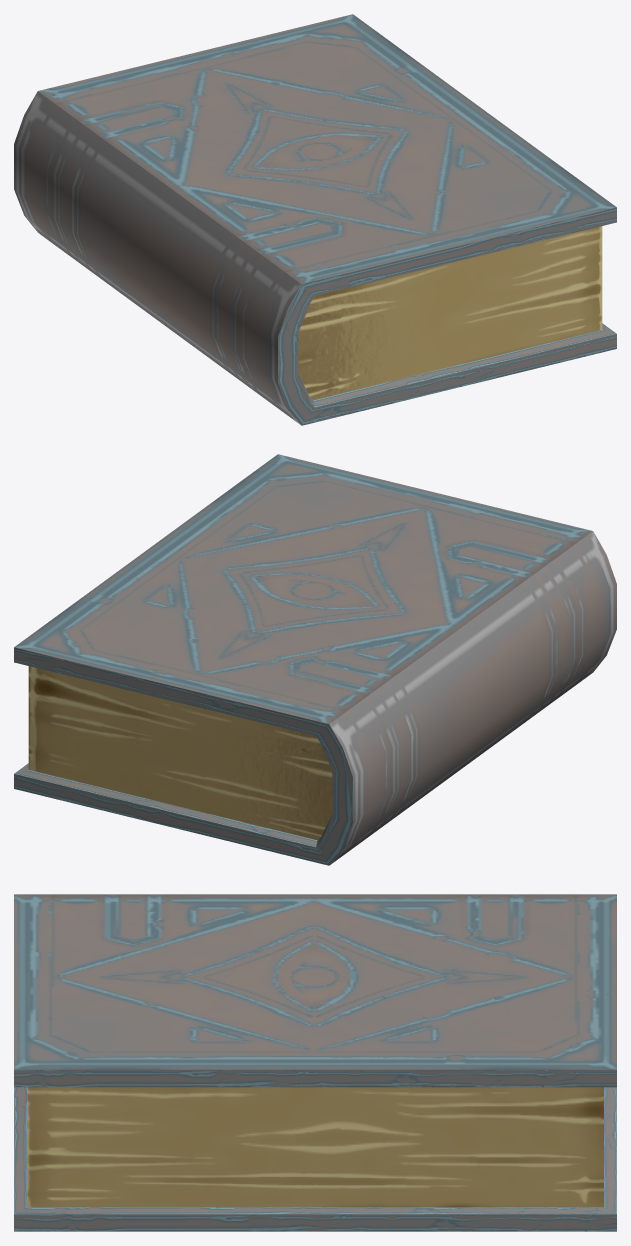
The model's file is Book_6.fbx.
3 renders of one model, top to bottom at view 1: azimuth 30°, elevation 25°; view 2: azimuth 150°, elevation 25°; view 3: azimuth 270°, elevation 25°, orthographic. The views are drawn at different scales.
Visible parts, largest first — view 1: Book_6; view 2: Book_6; view 3: Book_6.
Part boxes in pixels (x1=…): Book_6: x1=14, y1=14, x2=616, y2=425; Book_6: x1=14, y1=454, x2=616, y2=865; Book_6: x1=14, y1=894, x2=616, y2=1231.
Size of the model in its own units: 24.54 by 9.79 by 33.09.
